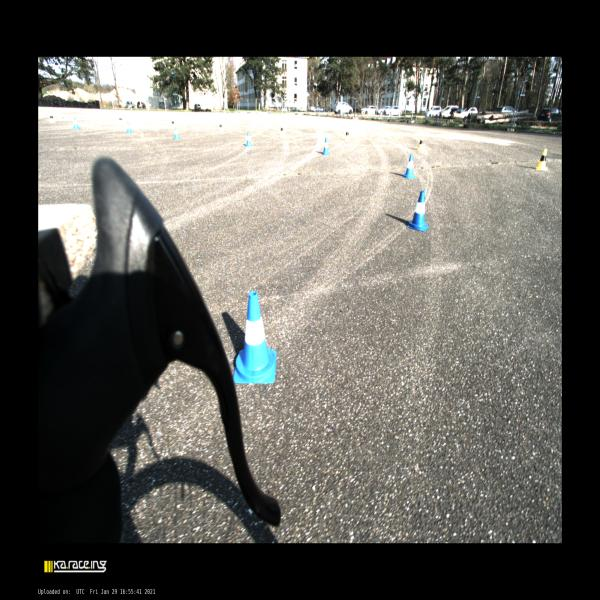blue_cone: (233, 291, 277, 384), (407, 190, 429, 232), (402, 154, 416, 179), (322, 137, 330, 155), (245, 132, 253, 147), (173, 126, 180, 140), (126, 121, 133, 134), (73, 117, 80, 129)
yellow_cone: (536, 148, 548, 171), (417, 136, 425, 150), (278, 124, 286, 137), (344, 128, 351, 142), (49, 111, 56, 123), (218, 120, 224, 133), (118, 114, 124, 126), (171, 117, 175, 129)
